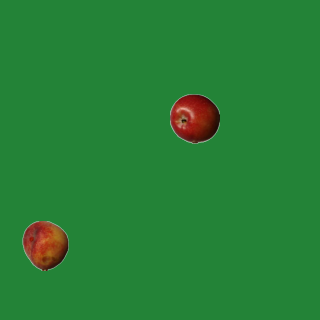Apple Braeburn: (169, 93, 219, 143)
Peach: (20, 220, 70, 270)
